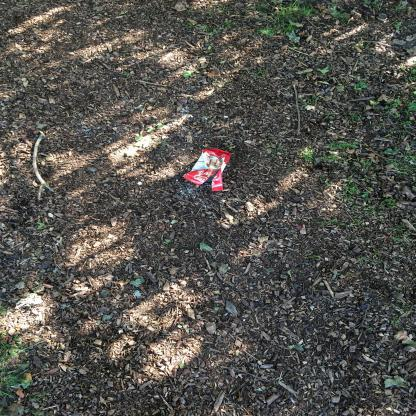plastik: (184, 150, 234, 193)
